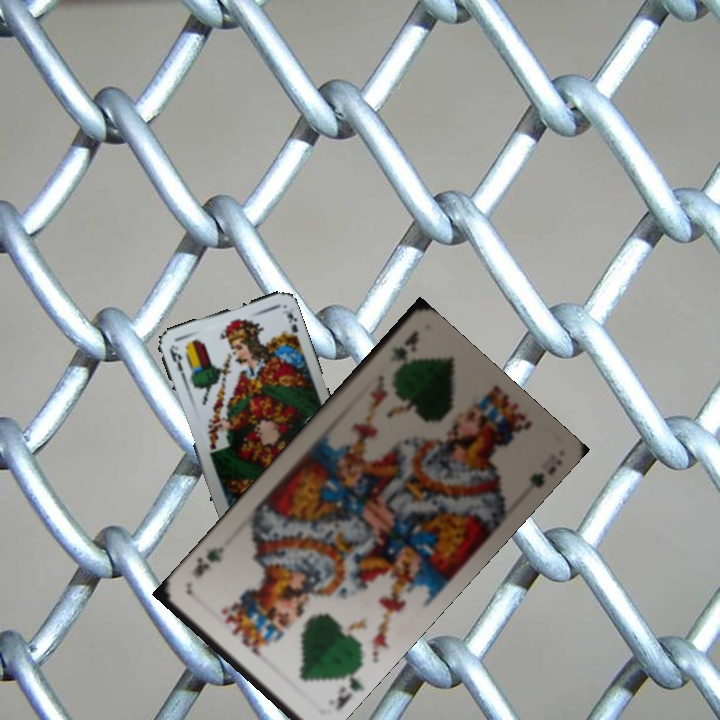EK: (165, 342, 188, 382)
GK: (331, 665, 365, 714), (388, 327, 422, 361)
